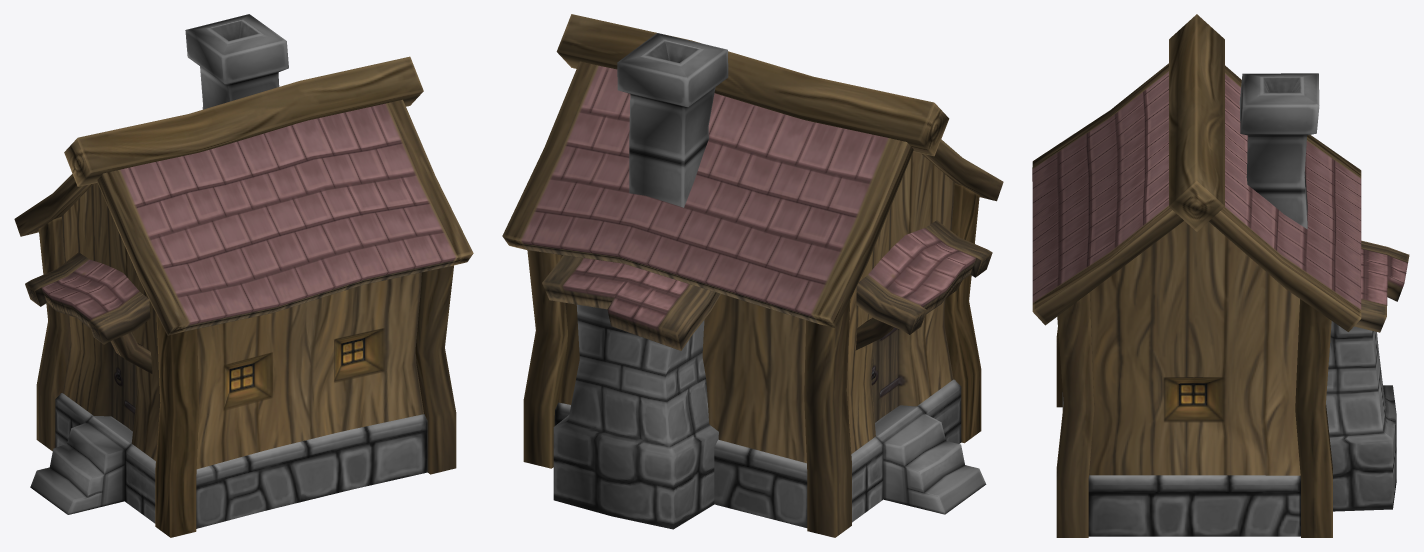
The model's file is house.fbx.
The picture shows the model from 3 angles, left to right: view 1: azimuth 30°, elevation 25°; view 2: azimuth 150°, elevation 25°; view 3: azimuth 270°, elevation 25°; orthographic projection. The views are drawn at different scales.
Visible parts, largest first — view 1: Mesh; view 2: Mesh; view 3: Mesh.
Boxes of the visible parts, x1,y1,x2,y2 form: Mesh: (14,14,473,537); Mesh: (502,14,1003,537); Mesh: (1032,14,1409,537).
Bounding box in the file's own units: 4.34 × 4.41 × 3.8.
